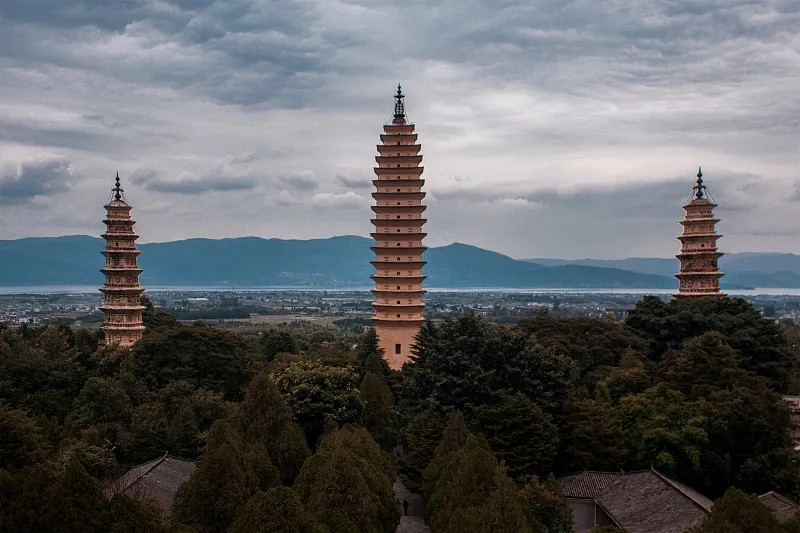ThreePagoda: (370, 83, 427, 369)
